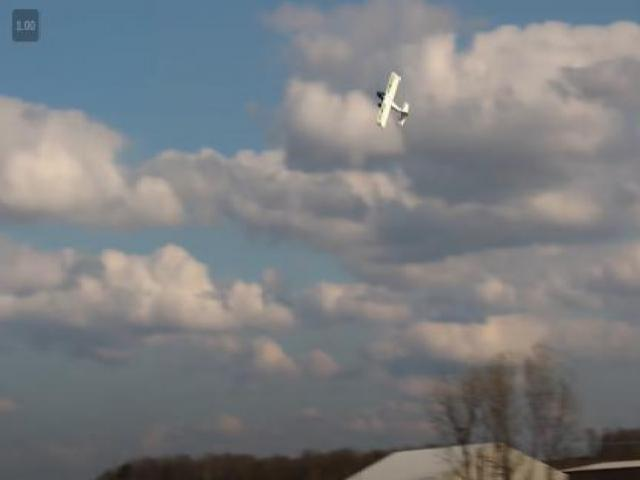uav: (374, 69, 412, 128)
